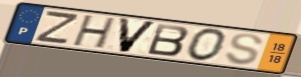B: (145, 22, 191, 57)
H: (70, 14, 119, 51)
O: (184, 27, 229, 63)
S: (223, 32, 265, 67)
V: (117, 16, 160, 54)
Z: (32, 11, 82, 46)
